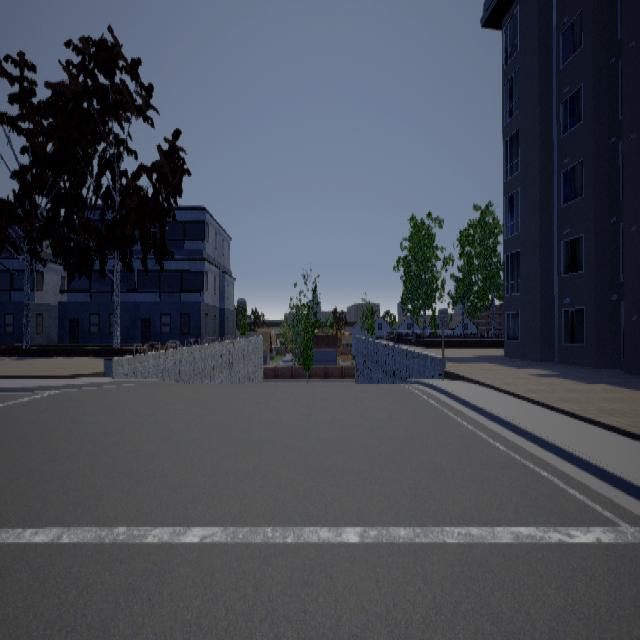traffic_sign: (437, 306, 448, 328)
